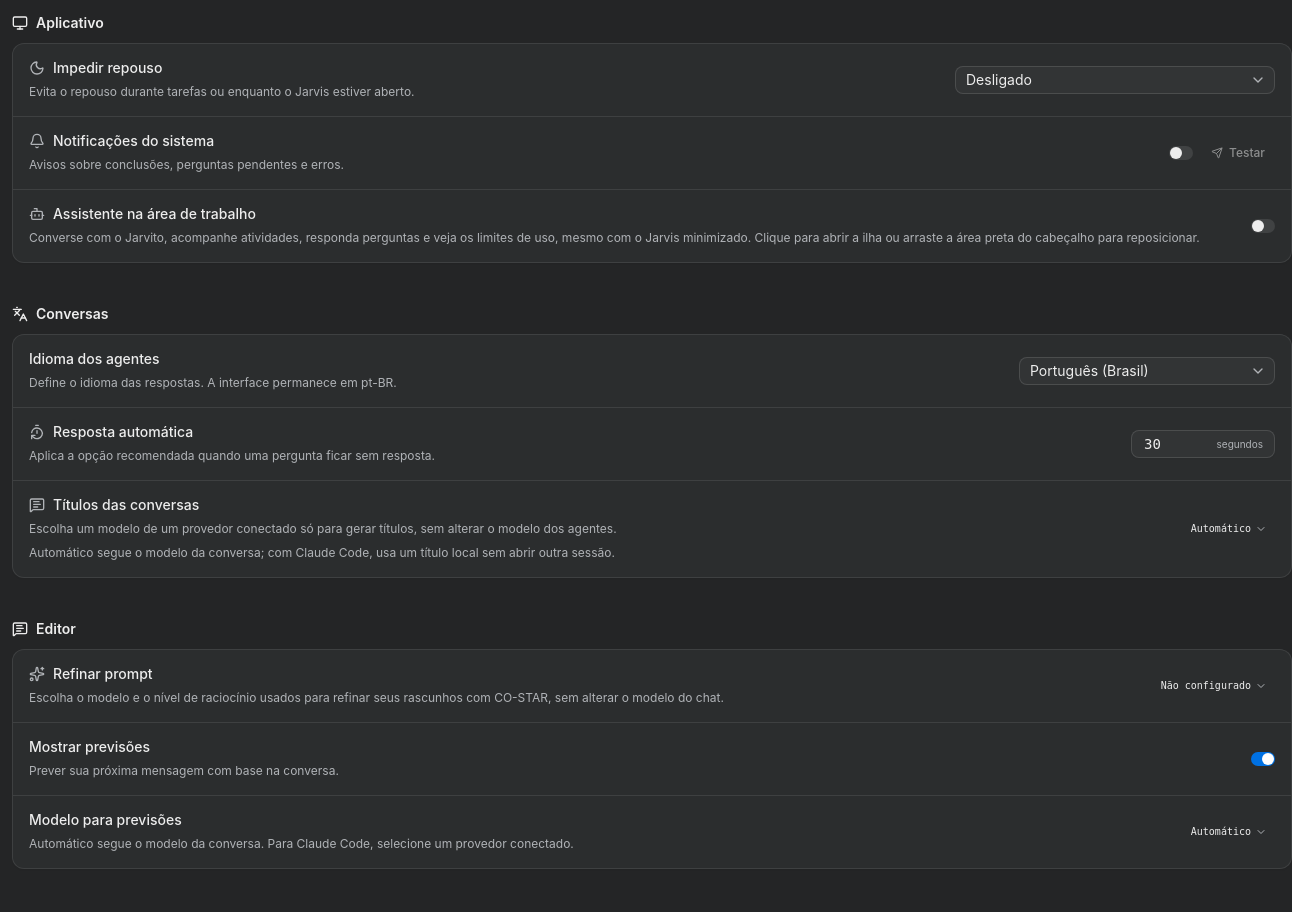
Scenario: system preferences › saves a prediction model independently and restores Automatic
Click the button with aria-label "Modelo para previsão de mensagens" at (1229,832), box [1183, 817, 1275, 847]
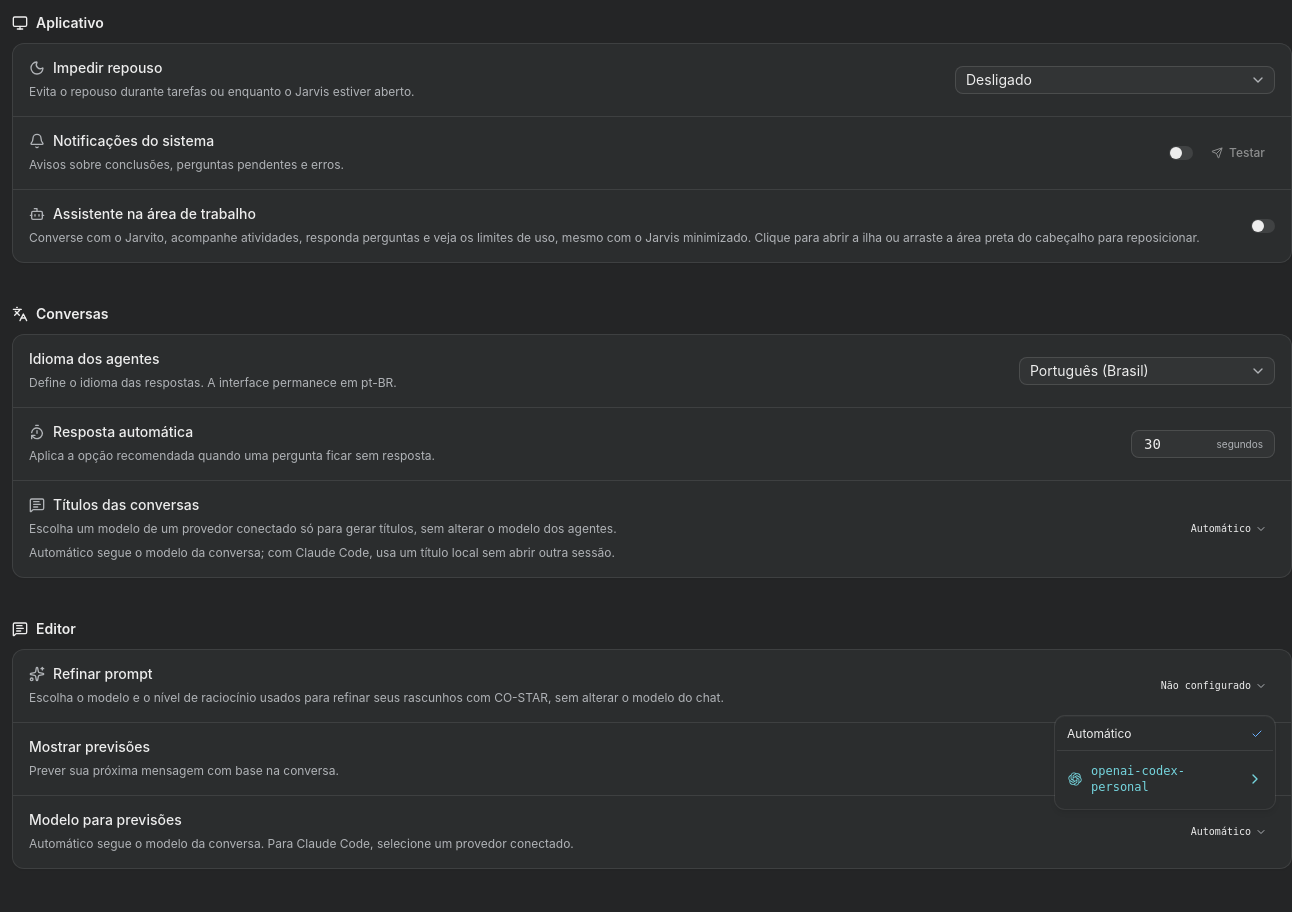
Hover over the menu item "openai-codex-personal" at (1165,779), box [1061, 755, 1269, 803]
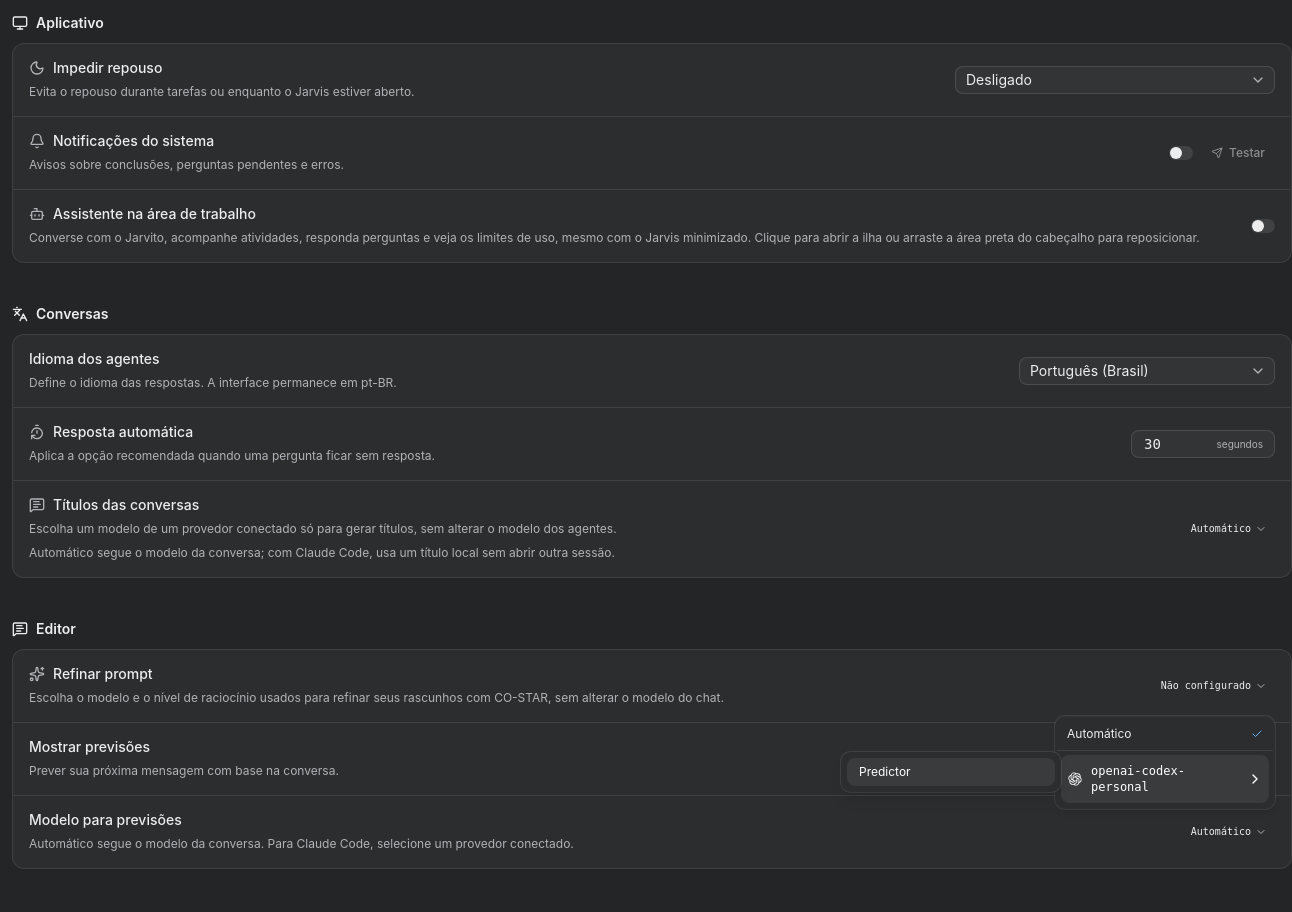
Press Enter
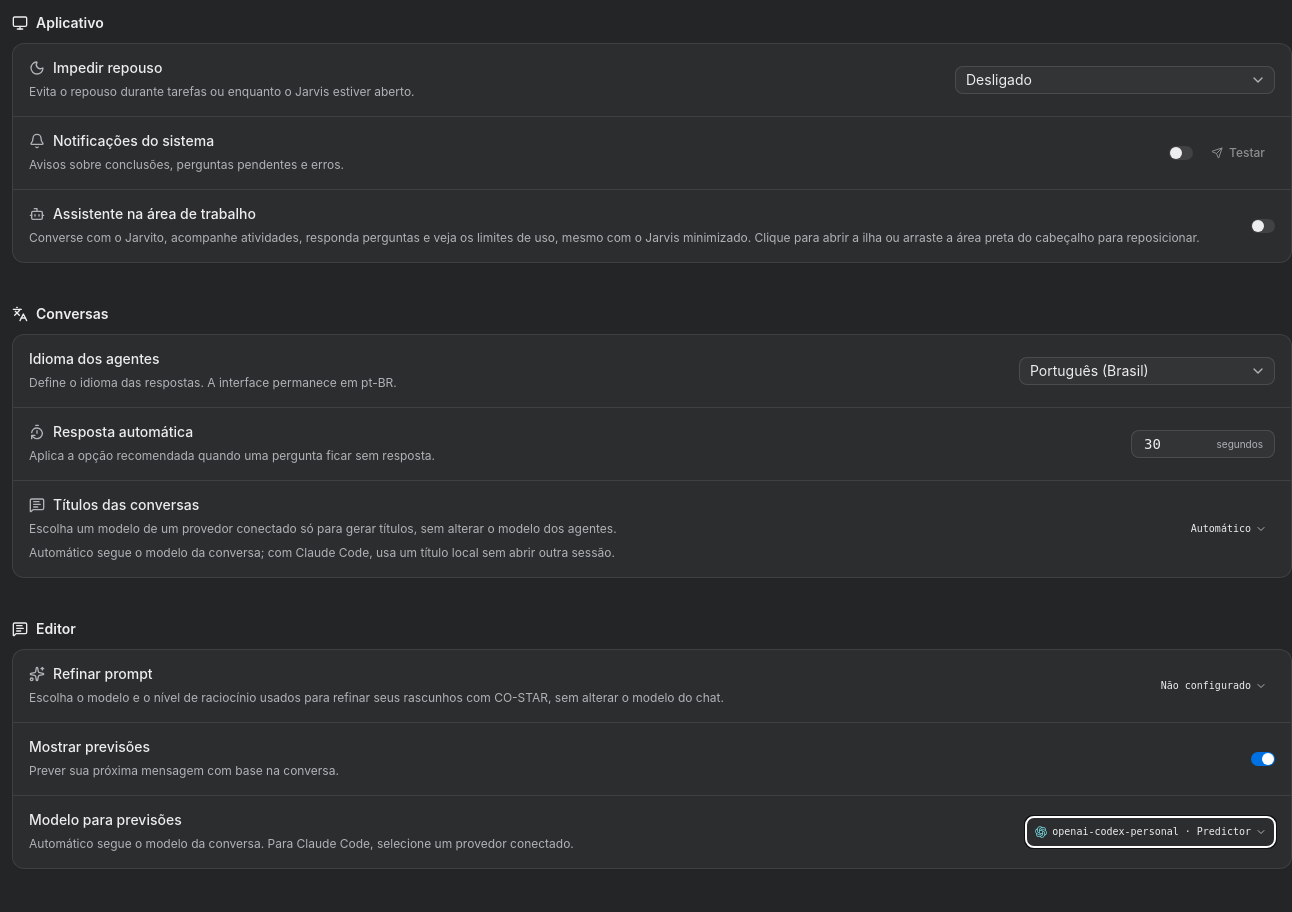
Expected: the button with aria-label "Modelo para títulos das conversas" reads "Automático", [1183, 514, 1275, 544]
Expected: the button with aria-label "Modelo para previsão de mensagens" shows "Predictor"
Click the button with aria-label "Modelo para previsão de mensagens" at (1151,832), box [1026, 817, 1275, 847]
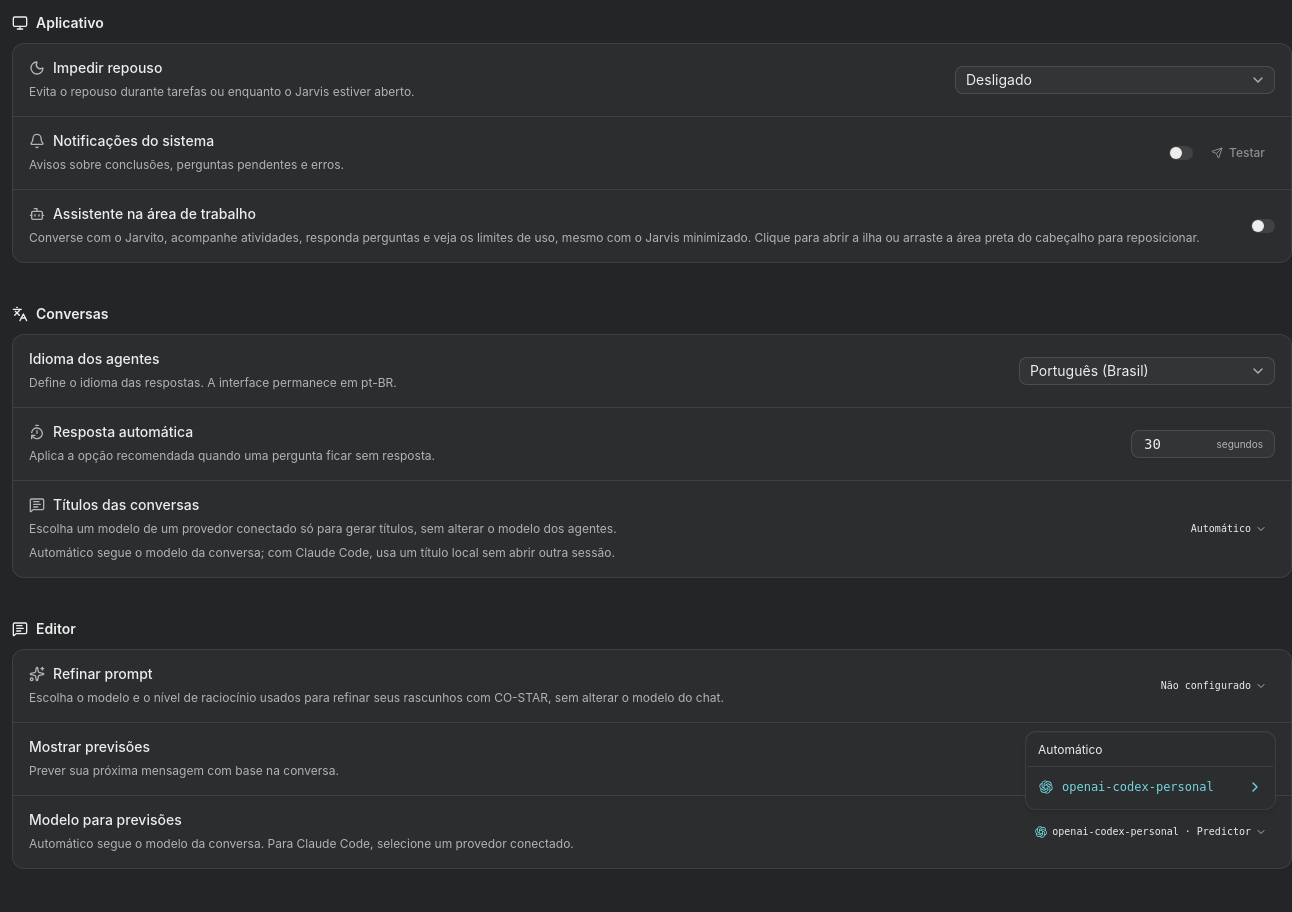
Click the menu item "Automático" at (1070,750), box [1038, 742, 1102, 757]
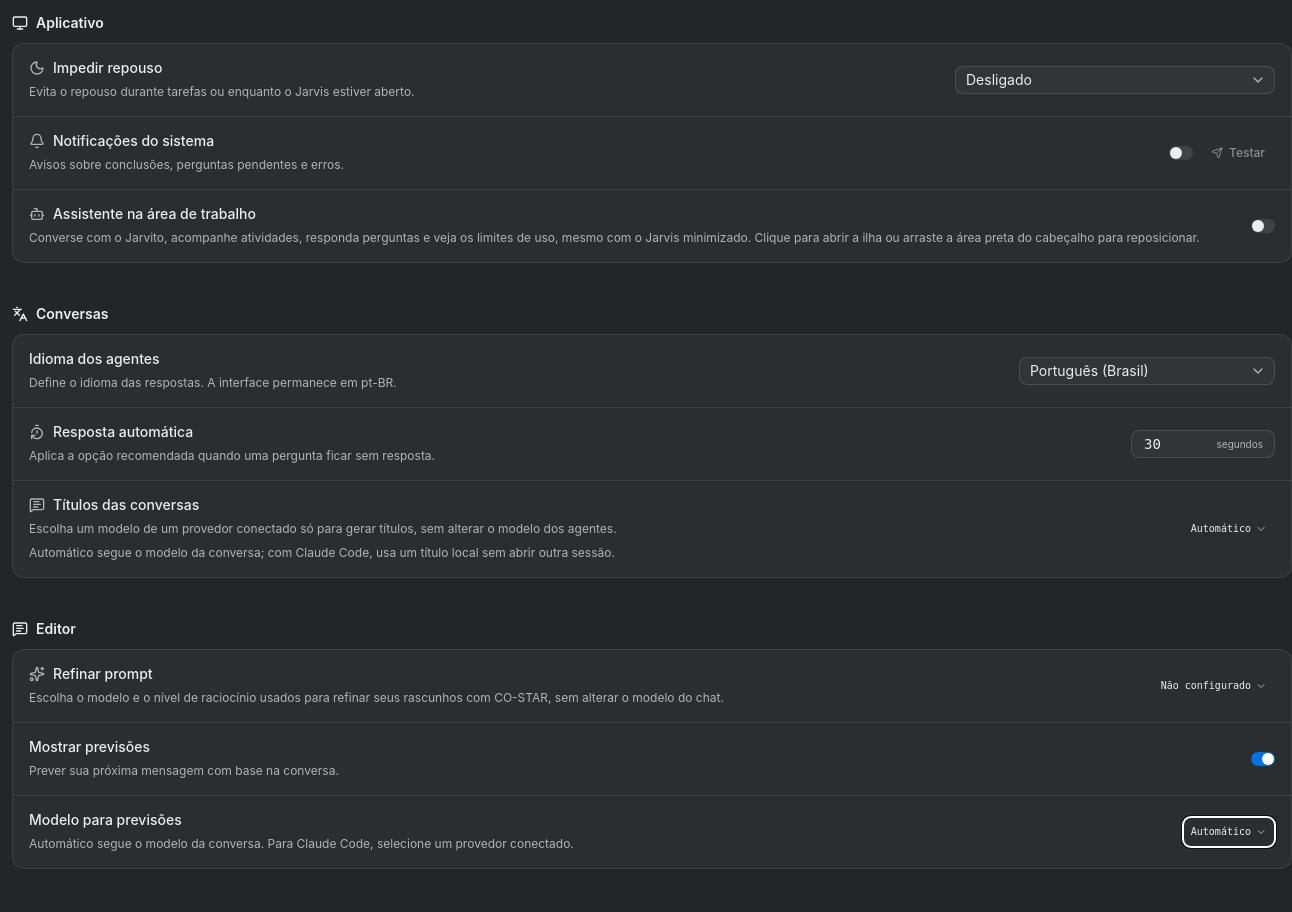
Expected: the button with aria-label "Modelo para previsão de mensagens" reads "Automático", [1183, 817, 1275, 847]
